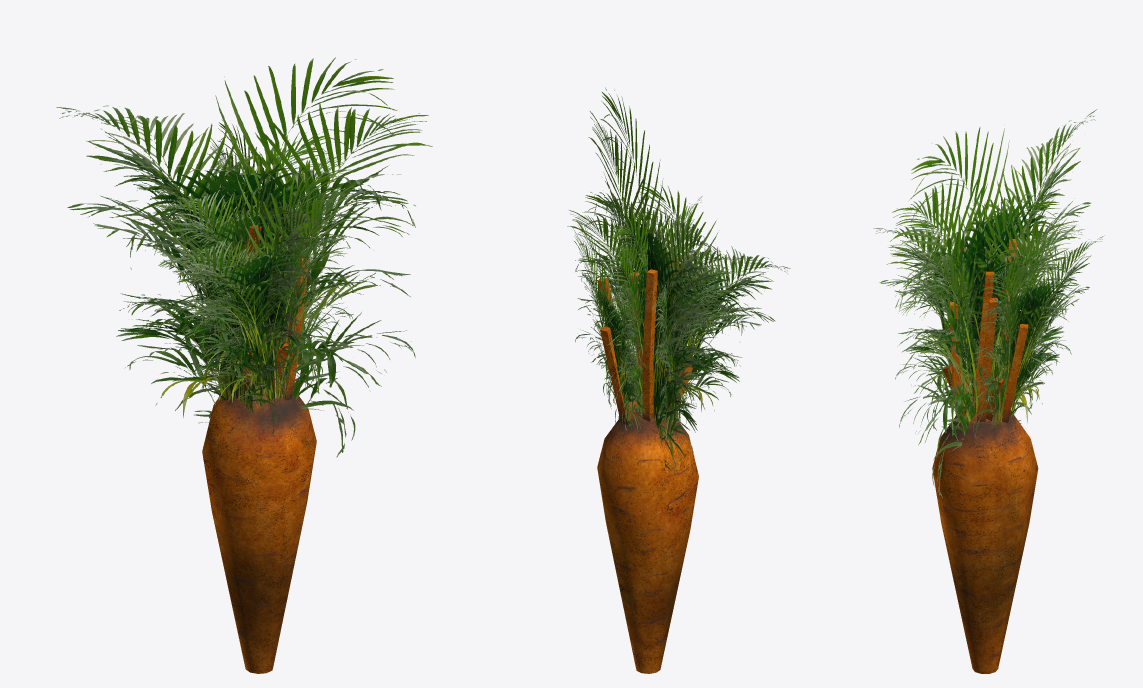
Rendered from carrot.fbx.
3 renders of one model, left to right at view 1: azimuth 30°, elevation 25°; view 2: azimuth 150°, elevation 25°; view 3: azimuth 270°, elevation 25°, orthographic. The views are drawn at different scales.
Parts seen in each view (by area): view 1: tex2carrot.006, Cylinder; view 2: tex2carrot.006, Cylinder; view 3: tex2carrot.006, Cylinder.
Part boxes in pixels (x1,y1,x2,y2): tex2carrot.006: (56, 57, 432, 457); Cylinder: (202, 202, 316, 673); tex2carrot.006: (567, 87, 790, 476); Cylinder: (597, 258, 698, 673); tex2carrot.006: (873, 109, 1104, 498); Cylinder: (932, 239, 1038, 673).
Bounding box in the file's own units: 118 × 213 × 93.4.
2 materials, 2 textured.
